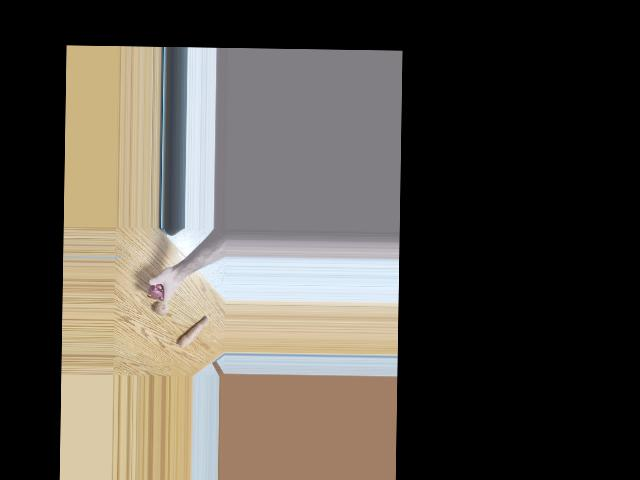onion: (153, 298, 169, 316)
